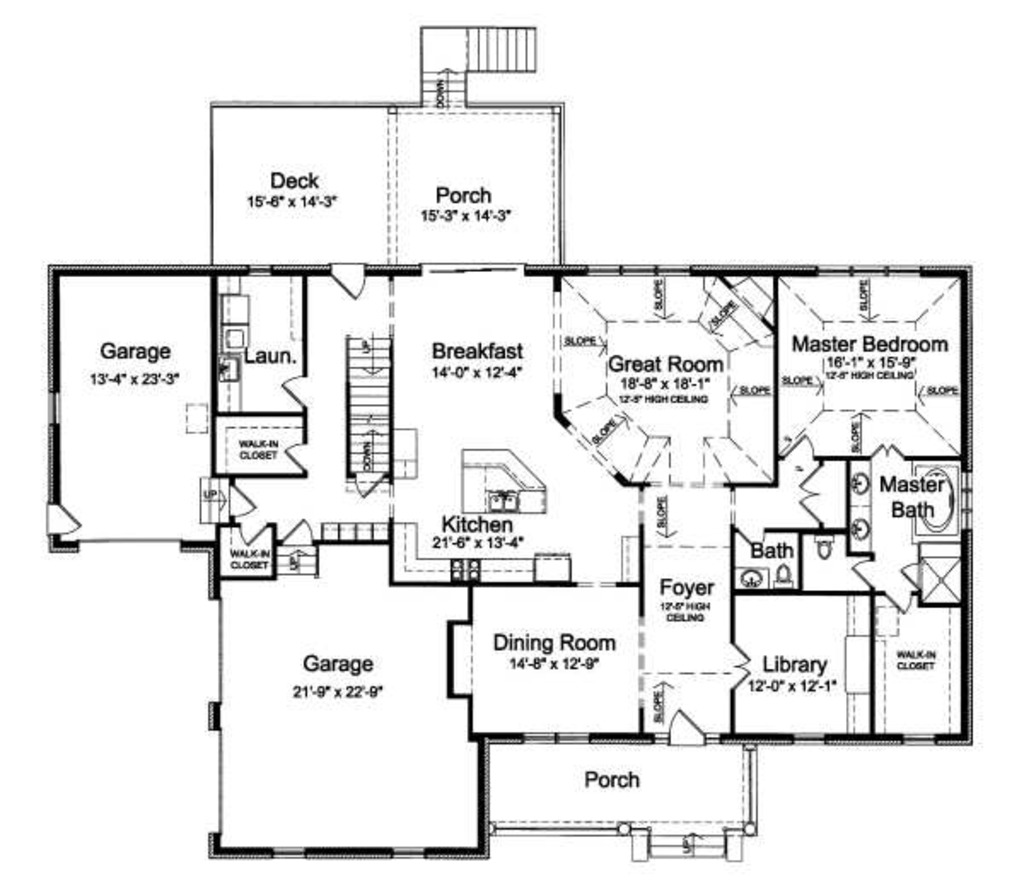door: (322, 255, 377, 302), (791, 463, 833, 524), (273, 363, 317, 415), (659, 709, 713, 750), (733, 518, 783, 557), (221, 481, 259, 525), (874, 588, 922, 621), (276, 518, 324, 547), (284, 443, 324, 473), (776, 431, 817, 459), (354, 470, 392, 500), (228, 517, 266, 544), (896, 555, 928, 587), (847, 557, 876, 591), (869, 437, 906, 461), (729, 643, 748, 688)
kitchen_bar: (451, 446, 563, 528)
large_sink: (766, 551, 806, 599), (813, 525, 850, 563)
small_sink: (735, 559, 769, 596)
stairs: (406, 13, 558, 120), (351, 326, 417, 495)
tub: (898, 457, 959, 537)
twin_sink: (477, 488, 528, 520)
window: (567, 259, 688, 287), (822, 255, 935, 278), (515, 722, 599, 751), (787, 724, 840, 758), (896, 726, 952, 755), (40, 388, 69, 437), (383, 839, 435, 866), (267, 837, 317, 862)
